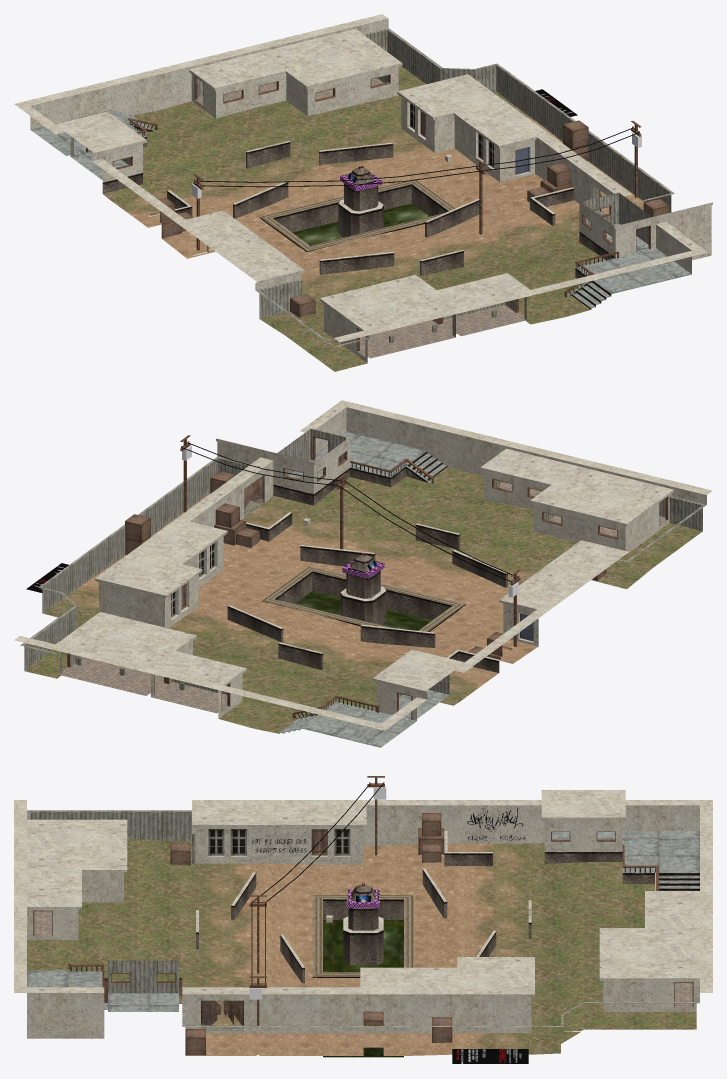
Rendered from aim_kosova_famas.glb.
The picture shows the model from 3 angles, top to bottom: view 1: azimuth 30°, elevation 25°; view 2: azimuth 150°, elevation 25°; view 3: azimuth 270°, elevation 25°; orthographic projection. The views are drawn at different scales.
Parts seen in each view (by area): view 1: *0, *14, *13; view 2: *0, *14; view 3: *0, *14.
Boxes of the visible parts, left/top/right/bottom form: *0: left=14, top=14, right=712, bottom=371; *14: left=293, top=203, right=429, bottom=245; *13: left=200, top=166, right=483, bottom=187; *0: left=14, top=400, right=712, bottom=747; *14: left=294, top=591, right=432, bottom=630; *0: left=14, top=776, right=712, bottom=1063; *14: left=323, top=920, right=403, bottom=1057.
Bounding box in the file's own units: 51.81 × 16.92 × 66.06.
29 materials, 28 textured.
